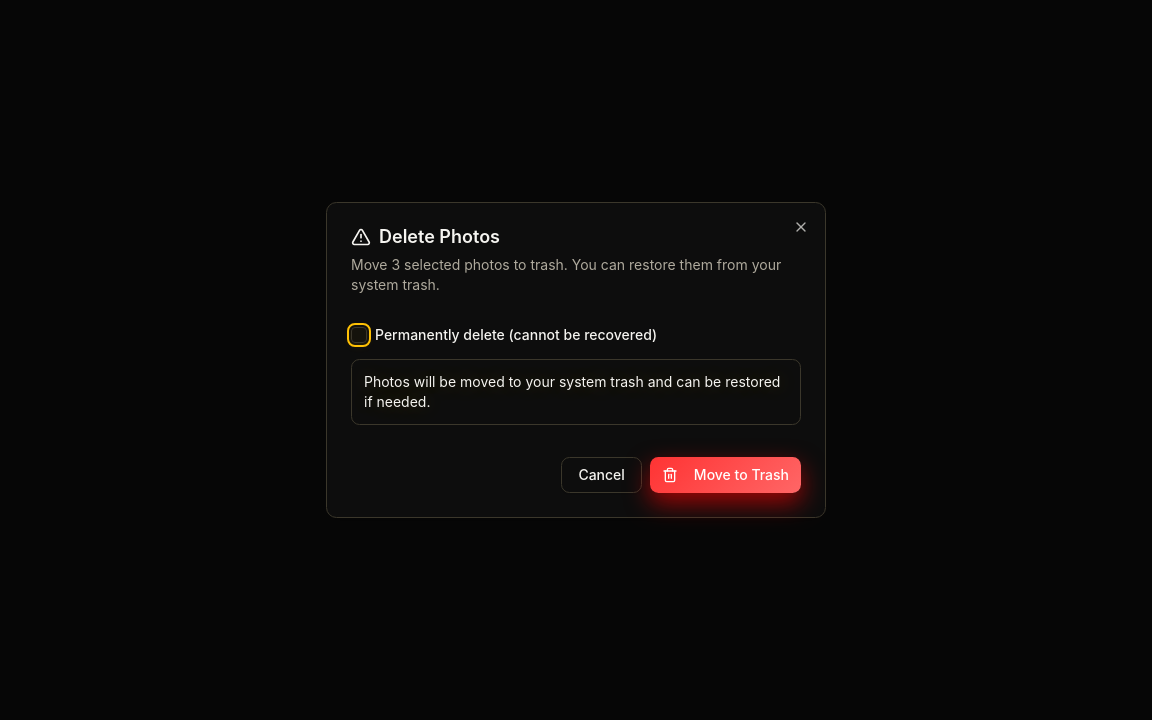
Test: BatchDeleteDialog Component › Delete Operation › shows loading state during deletion
The image size is (1152, 720).
Click the button "Move to Trash": click(725, 475) [650,457,801,493]
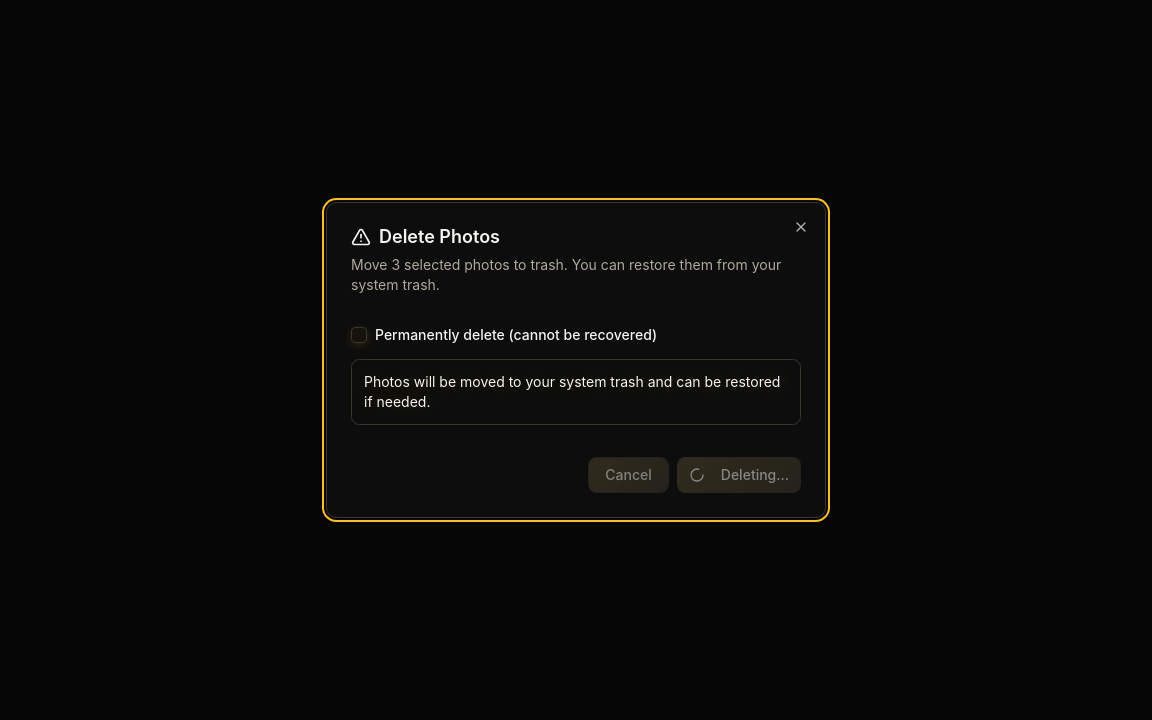
Check: the button "Deleting..." is shown, box [677,457,801,493]
